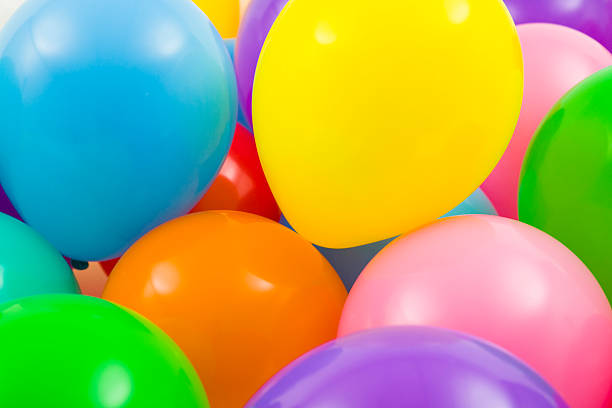Balloon: (252, 1, 525, 246), (1, 1, 239, 256)
